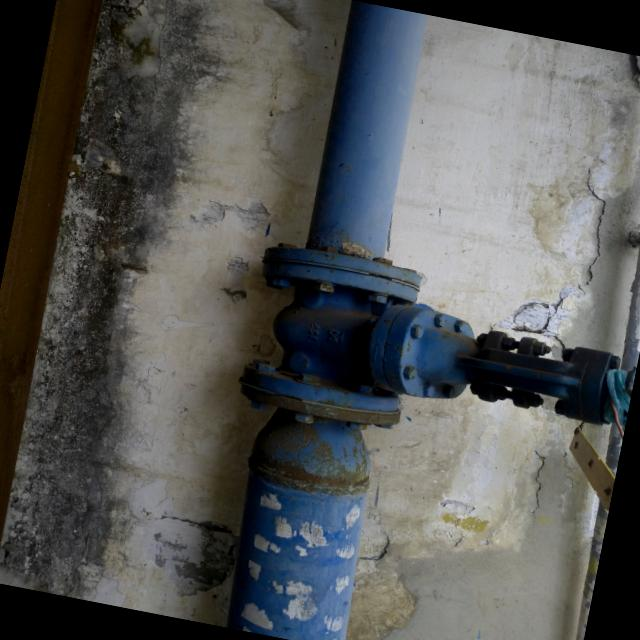gas: (199, 0, 476, 640)
